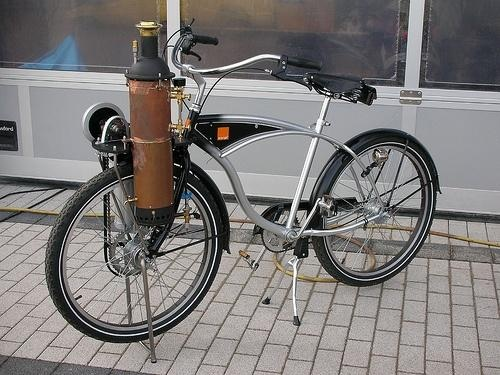bicycle: (46, 16, 443, 341)
